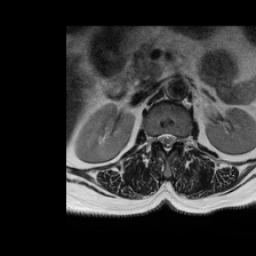CCS_normal: (164, 124, 170, 159)
LFS_stenosis: (177, 126, 183, 149)
LLS_stenosis: (170, 126, 177, 150)
RFS_stenosis: (151, 127, 157, 149)
RLS_normal: (157, 126, 164, 150)
